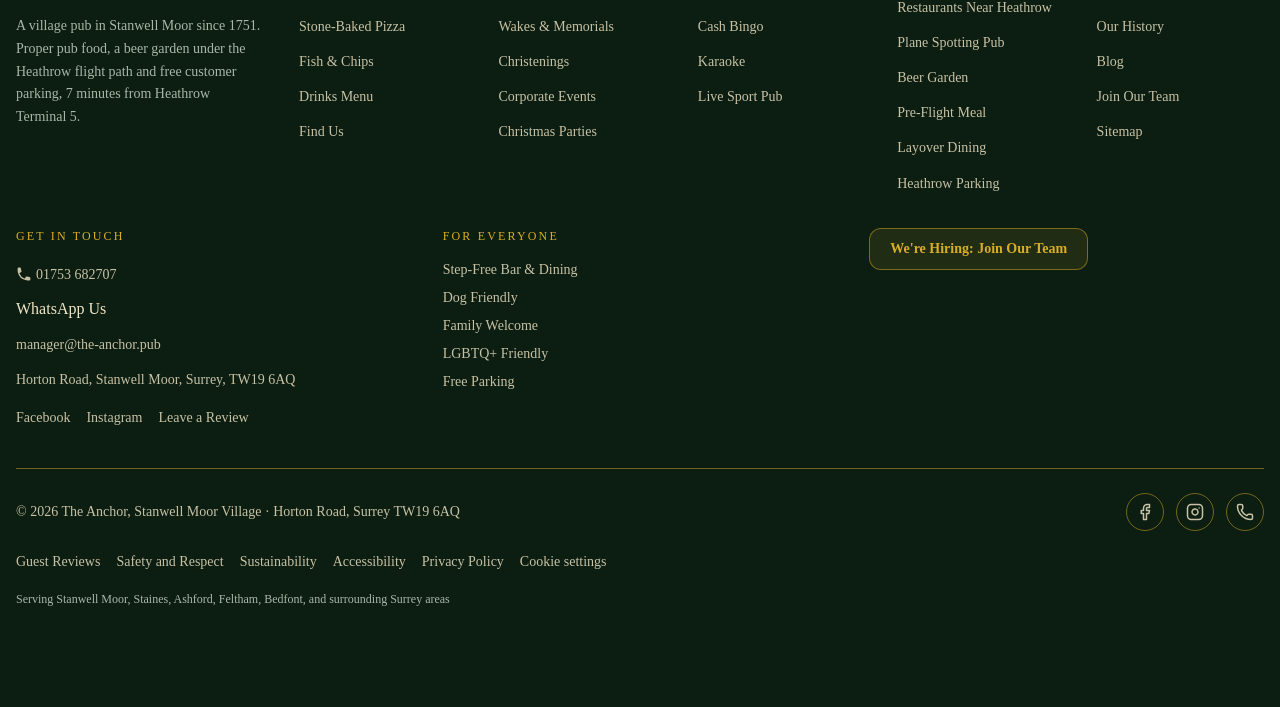
Test: the footer Cookie settings control › switching marketing off updates the cookie, tells the page and deletes the advert record
(page scrolled)
Step 1. Click the button "Cookie settings" → (563,562), box [520,552,606,572]
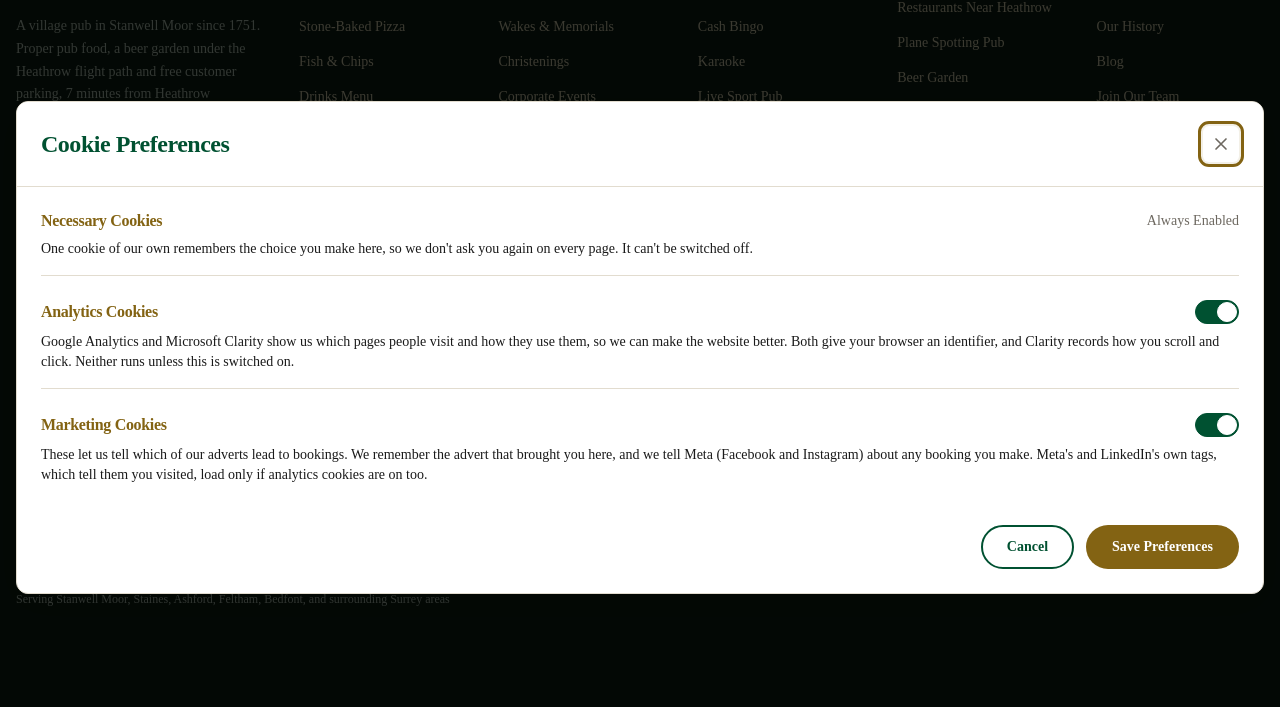
Step 2. Click the checkbox labelled "Marketing Cookies" → (1217,424), box [1195,412,1239,436]
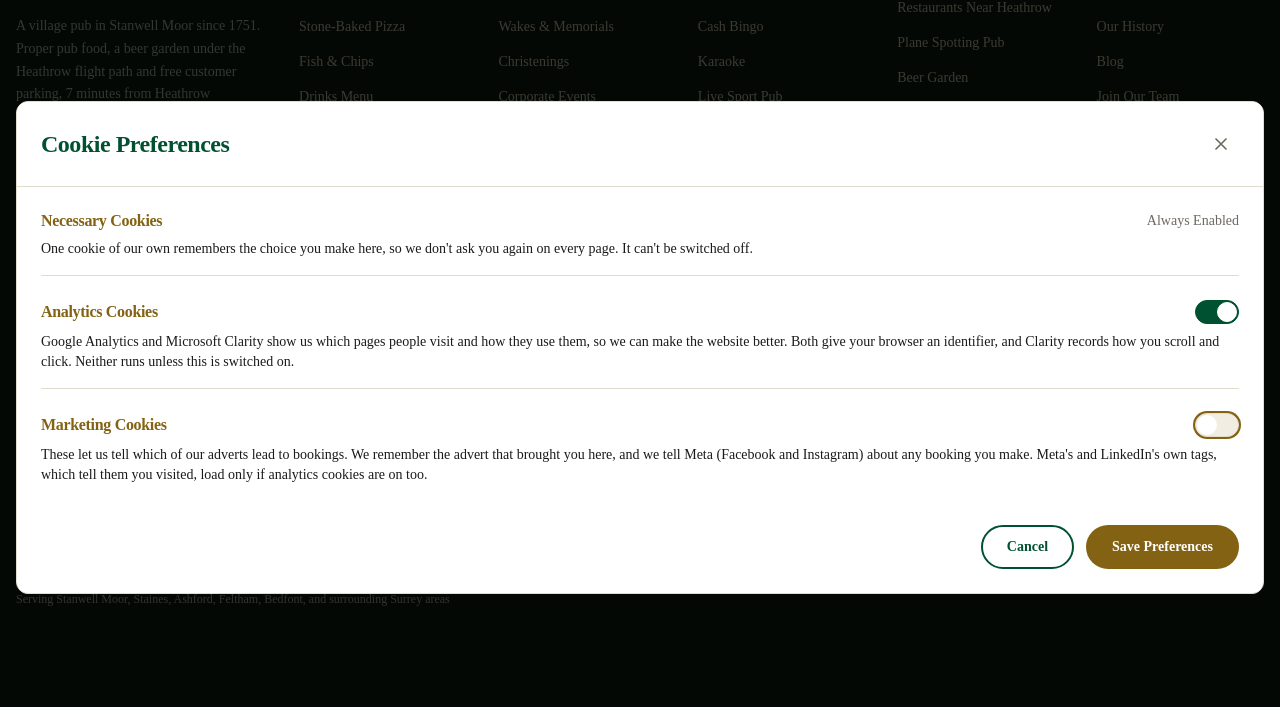
Step 3. Click the button "Save Preferences" → (1162,546), box [1086,524,1239,568]
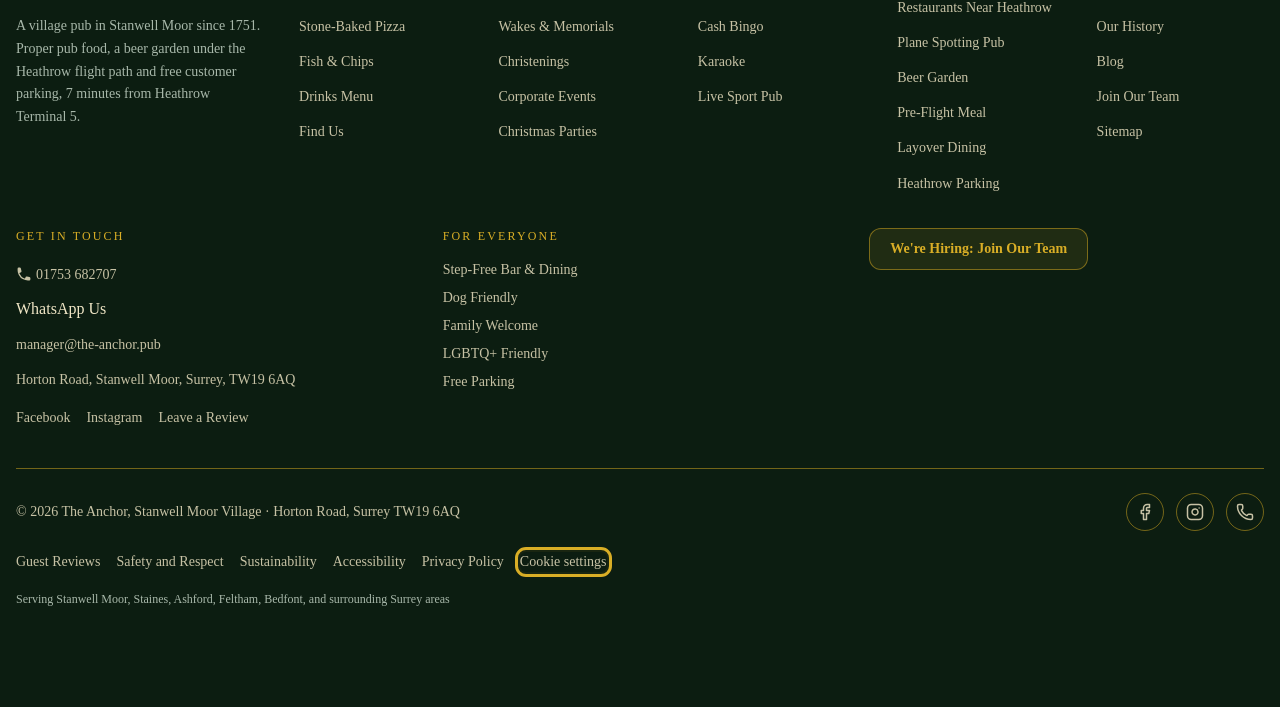
expect the button "Cookie settings" is shown: met, box [520,552,606,572]
expect the dialog is gone: met
